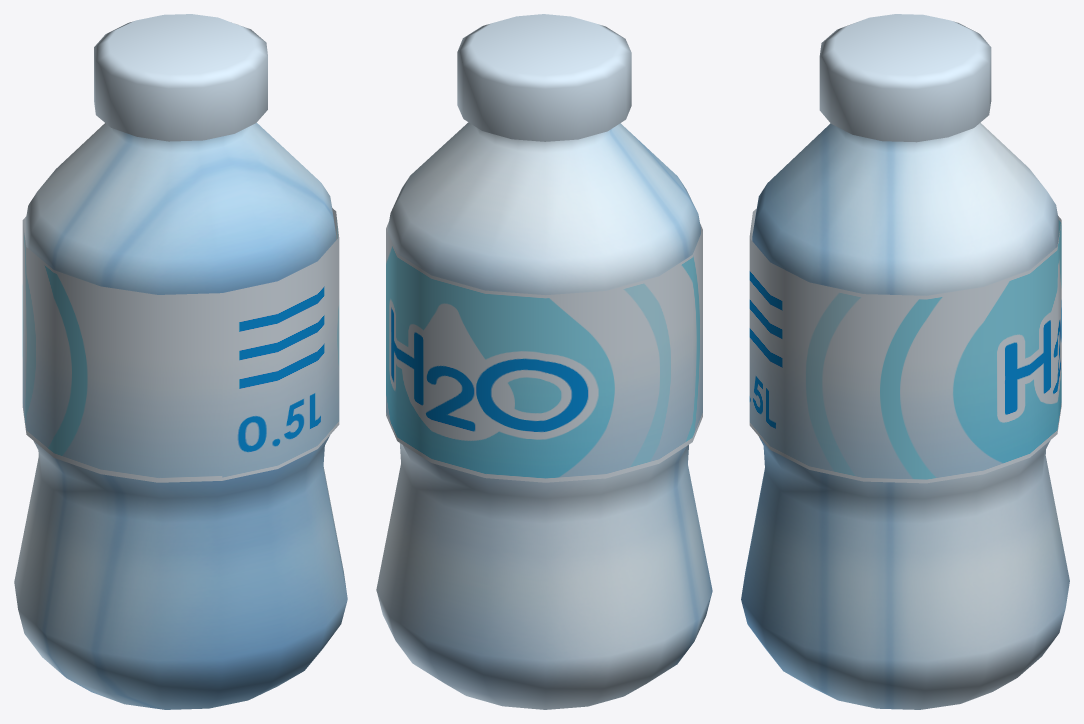
The model's file is chai nuoc.fbx.
The picture shows the model from 3 angles, left to right: view 1: azimuth 30°, elevation 25°; view 2: azimuth 150°, elevation 25°; view 3: azimuth 270°, elevation 25°; orthographic projection.
Parts seen in each view (by area): view 1: polySurface14, polySurface29; view 2: polySurface14, polySurface29; view 3: polySurface14, polySurface29.
Part boxes in pixels (left/top/right/bottom): polySurface14: left=14, top=122, right=347, bottom=709; polySurface29: left=22, top=14, right=339, bottom=482; polySurface14: left=376, top=122, right=712, bottom=709; polySurface29: left=386, top=14, right=702, bottom=482; polySurface14: left=741, top=123, right=1069, bottom=709; polySurface29: left=749, top=14, right=1061, bottom=483.
Bounding box in the file's own units: 68.65 × 140 × 67.42.
3 materials, 3 textured.
